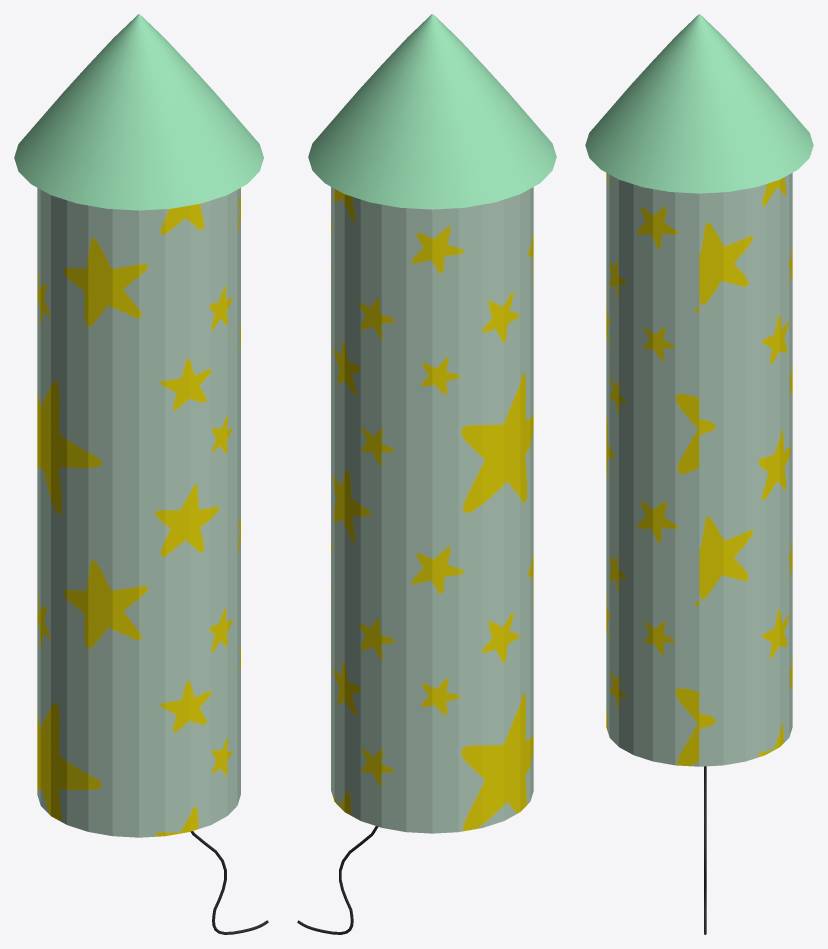
Rendered from firecracker_nostick3.fbx.
3 views of the same model, side by side, from view 1: azimuth 30°, elevation 25°; view 2: azimuth 150°, elevation 25°; view 3: azimuth 270°, elevation 25° (orthographic). The views are drawn at different scales.
Parts seen in each view (by area): view 1: Cone002; view 2: Cone002; view 3: Cone002.
Boxes of the visible parts, x1,y1,x2,y2 form: Cone002: [14, 14, 268, 934]; Cone002: [297, 14, 556, 934]; Cone002: [585, 14, 813, 934].
Bounding box in the file's own units: 57.62 × 217 × 51.81.
